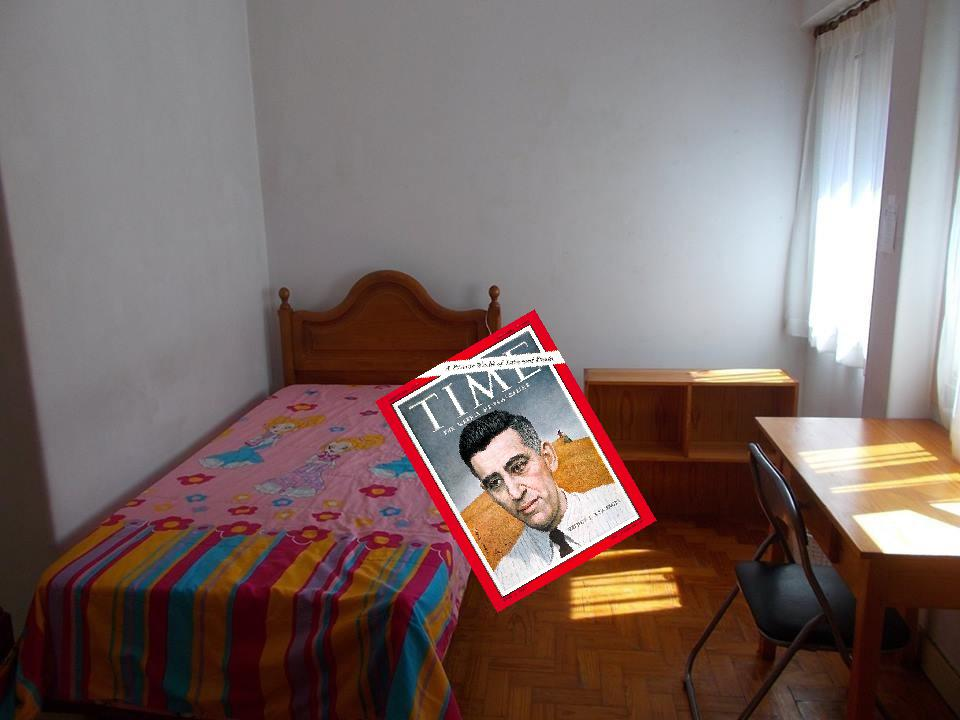times: (374, 304, 658, 617)
